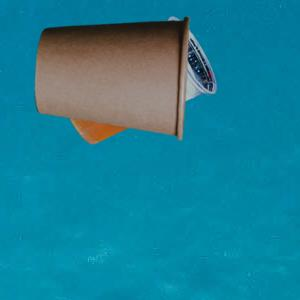cup: (35, 16, 191, 138)
